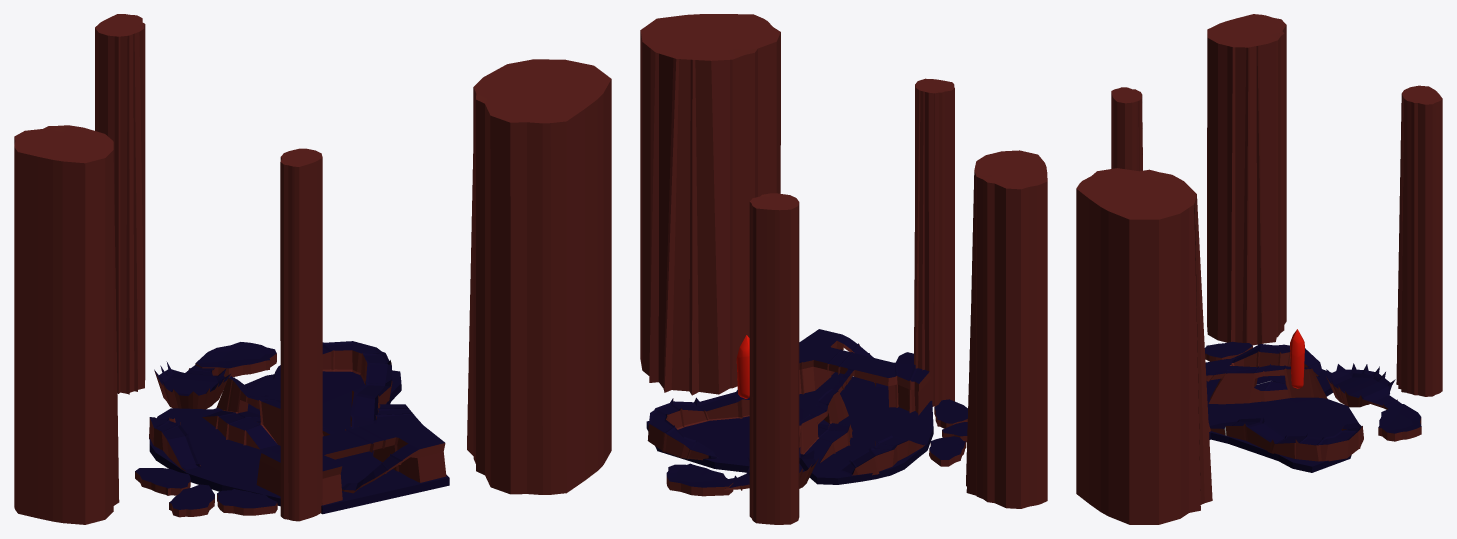
The model's file is AshenRuinsV4Rough.fbx.
3 renders of one model, left to right at view 1: azimuth 30°, elevation 25°; view 2: azimuth 150°, elevation 25°; view 3: azimuth 270°, elevation 25°, orthographic. The views are drawn at different scales.
Visible parts, largest first — view 1: Plane.105, Plane.103, Plane.069, Plane.104, Plane.057, Plane.056, Plane.068, Plane.088, Plane.090, Plane.041, Plane.055, Plane.058 (+2 smaller); view 2: Plane.105, Plane.103, Plane.104, Plane.069, Plane.057, Plane.056, Plane.068, Plane.041, Plane.090, Plane.055, Plane.060, Plane.088 (+2 smaller); view 3: Plane.105, Plane.103, Plane.104, Plane.057, Plane.068, Plane.056, Plane.069, Plane.088, Plane.041, Plane.090, Cube.302, Plane.060.
Part boxes in pixels (bbox=[...]): Plane.105: bbox=[467, 59, 611, 494]; Plane.103: bbox=[14, 125, 119, 524]; Plane.069: bbox=[280, 148, 322, 521]; Plane.104: bbox=[95, 14, 145, 394]; Plane.057: bbox=[149, 370, 449, 514]; Plane.056: bbox=[216, 376, 446, 505]; Plane.068: bbox=[273, 341, 392, 428]; Plane.088: bbox=[154, 361, 230, 409]; Plane.090: bbox=[195, 342, 276, 377]; Plane.041: bbox=[149, 417, 200, 471]; Plane.055: bbox=[202, 410, 277, 449]; Plane.058: bbox=[217, 489, 277, 515]; Plane.105: bbox=[640, 14, 780, 395]; Plane.103: bbox=[966, 150, 1047, 508]; Plane.104: bbox=[749, 193, 799, 524]; Plane.069: bbox=[914, 78, 954, 406]; Plane.057: bbox=[646, 372, 933, 484]; Plane.056: bbox=[799, 329, 930, 454]; Plane.068: bbox=[647, 389, 749, 460]; Plane.041: bbox=[838, 434, 924, 475]; Plane.090: bbox=[666, 463, 733, 496]; Plane.055: bbox=[803, 421, 852, 463]; Plane.060: bbox=[929, 436, 966, 466]; Plane.088: bbox=[724, 447, 818, 490]; Plane.105: bbox=[1076, 168, 1212, 524]; Plane.103: bbox=[1207, 14, 1286, 345]; Plane.104: bbox=[1396, 85, 1442, 396]; Plane.057: bbox=[1205, 359, 1358, 472]; Plane.068: bbox=[1209, 417, 1363, 461]; Plane.056: bbox=[1206, 364, 1327, 431]; Plane.069: bbox=[1111, 87, 1142, 171]; Plane.088: bbox=[1326, 363, 1401, 409]; Plane.041: bbox=[1229, 344, 1322, 376]; Plane.090: bbox=[1378, 404, 1421, 441]; Cube.302: bbox=[1290, 329, 1304, 388]; Plane.060: bbox=[1204, 341, 1252, 361].
Bounding box in the file's own units: 9021 × 6211 × 6729.
